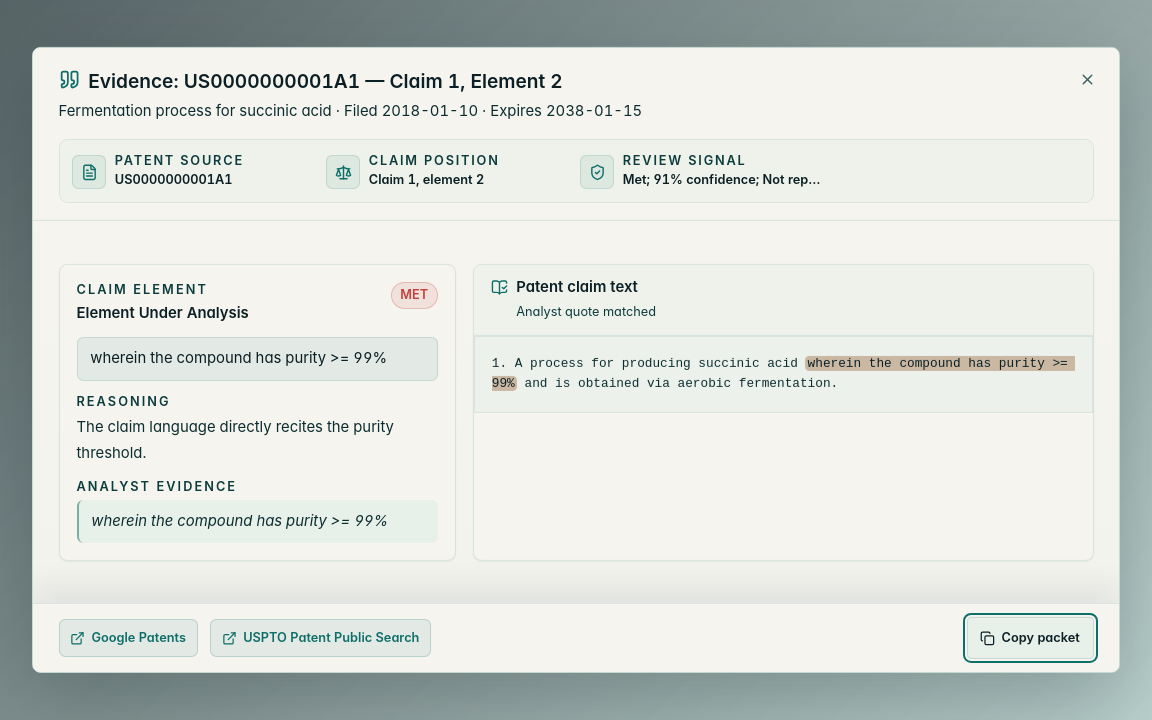
Test: EvidenceDrilldown › shows a clear state when clipboard copy is unavailable
The width and height of the screenshot is (1152, 720).
Step 1. Click the button with test id "evidence-drilldown-copy" → (1030, 638), box [967, 617, 1094, 659]
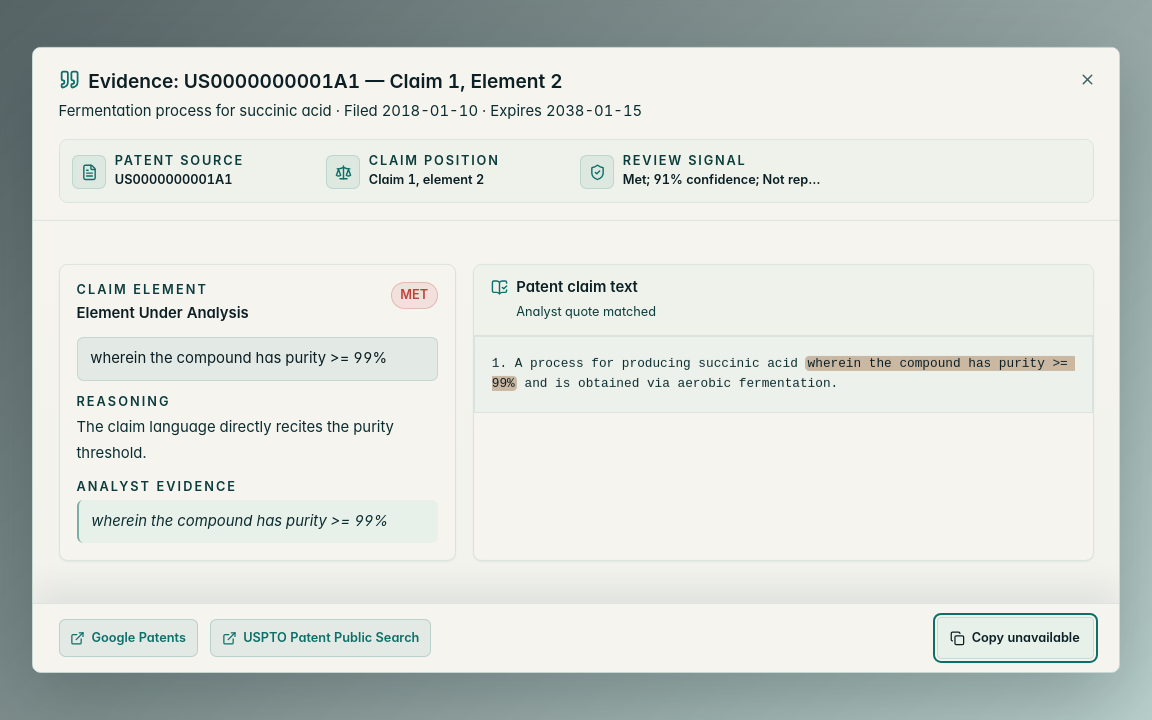
expect the button "Copy unavailable" is shown: met, box [937, 617, 1094, 659]
